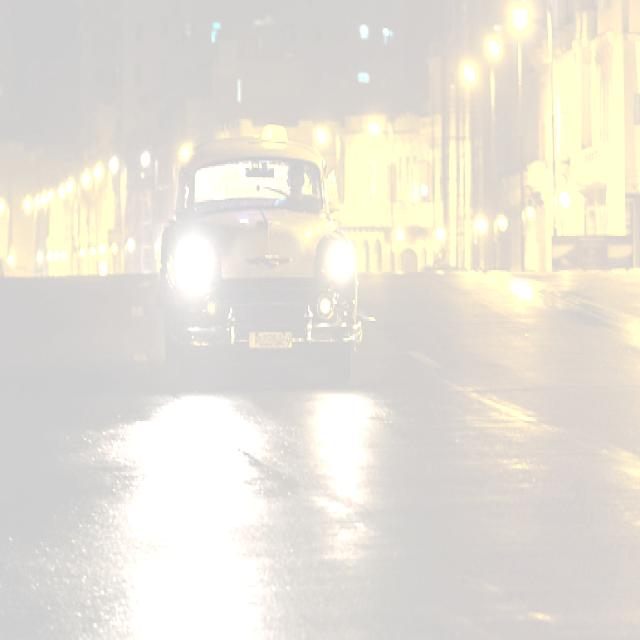Car: (159, 142, 362, 384)
